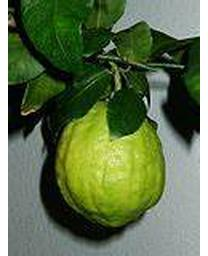lemon: (55, 99, 165, 227)
